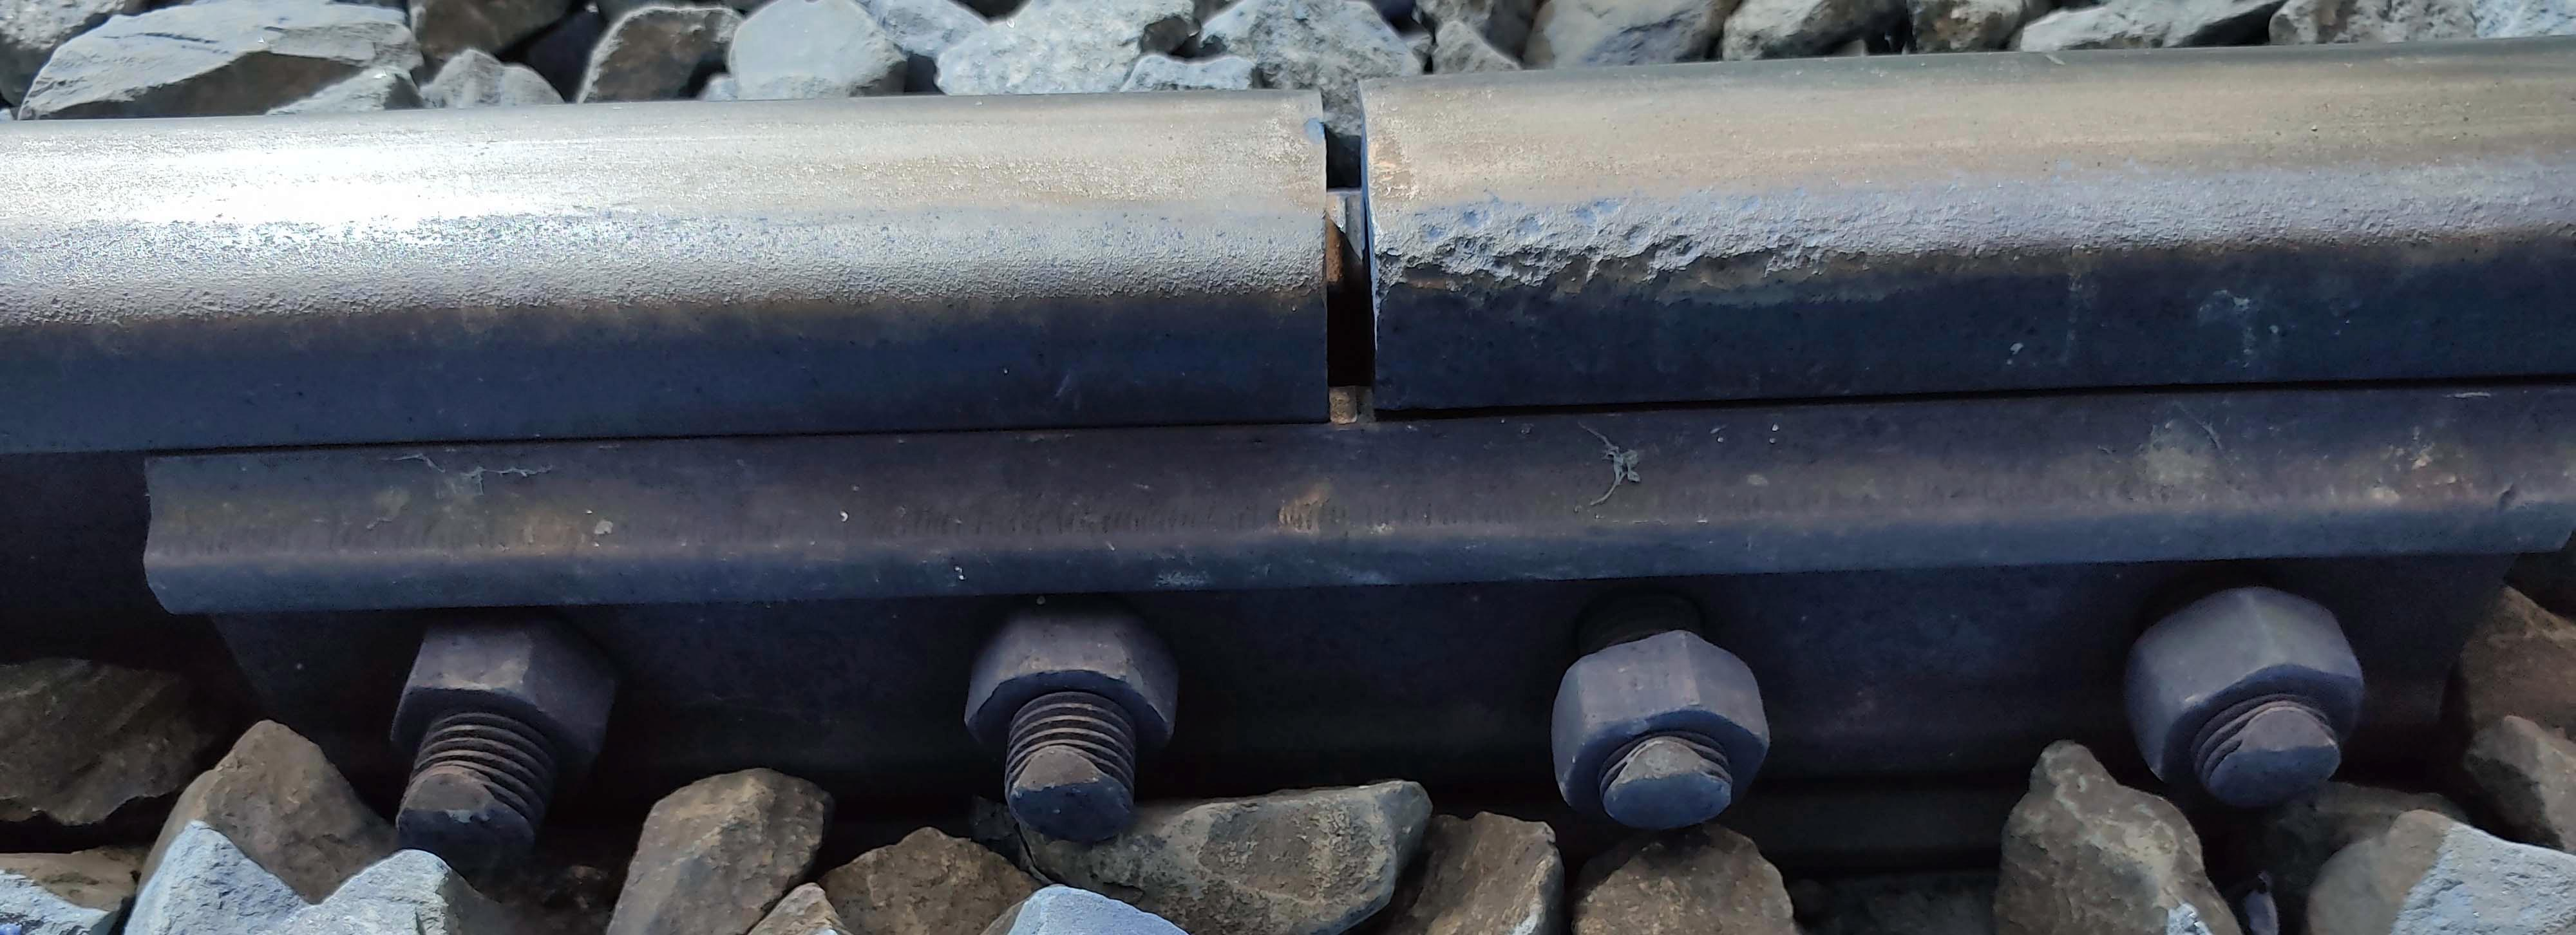error2: (1257, 21, 1460, 412)
